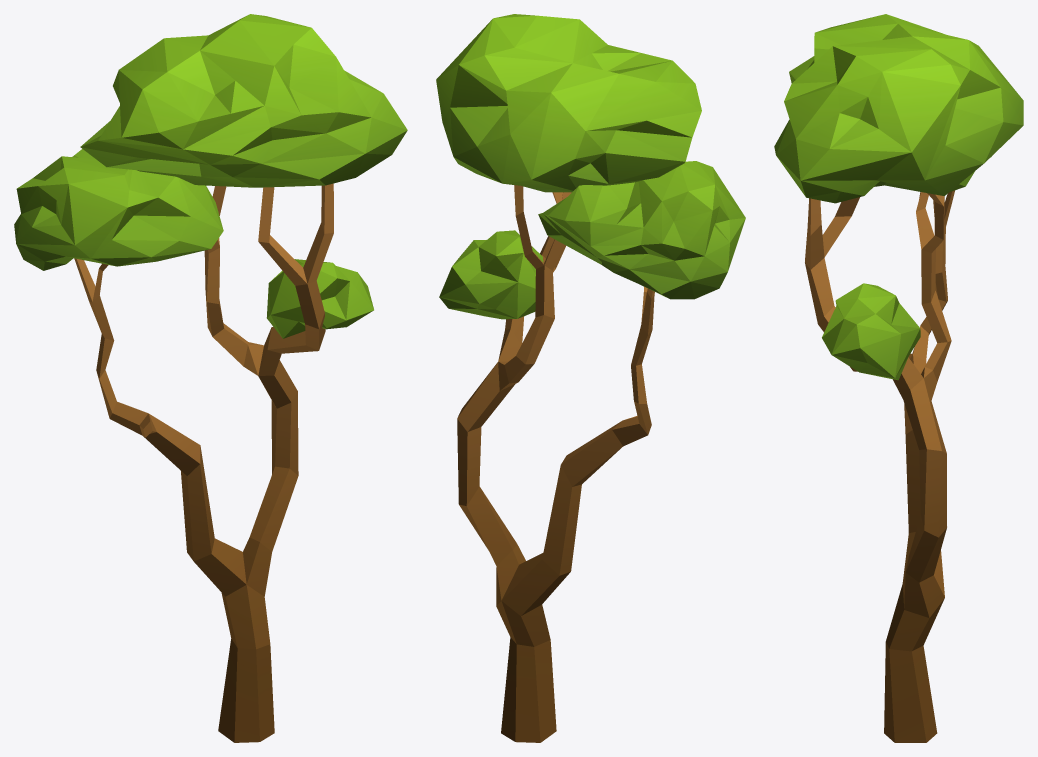
Rendered from SM_Env_Tree_02.fbx.
The picture shows the model from 3 angles, left to right: view 1: azimuth 30°, elevation 25°; view 2: azimuth 150°, elevation 25°; view 3: azimuth 270°, elevation 25°; orthographic projection. The views are drawn at different scales.
Visible parts, largest first — view 1: SM_Env_Tree_02; view 2: SM_Env_Tree_02; view 3: SM_Env_Tree_02.
Part boxes in pixels (<box>): SM_Env_Tree_02: <box>14,14,407,742</box>; SM_Env_Tree_02: <box>436,14,745,742</box>; SM_Env_Tree_02: <box>774,14,1023,742</box>.
Bounding box in the file's own units: 2.24 × 4.68 × 1.54.
Materials: 1 (1 with a texture image).
